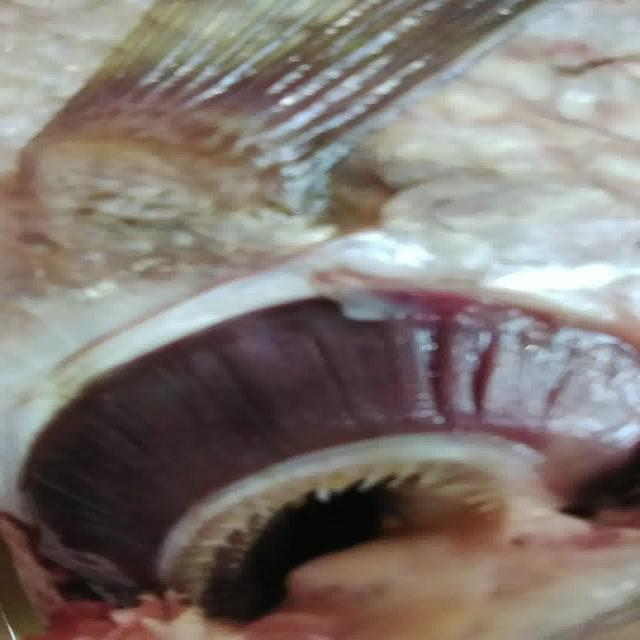Non-Fresh: (36, 273, 594, 589)
